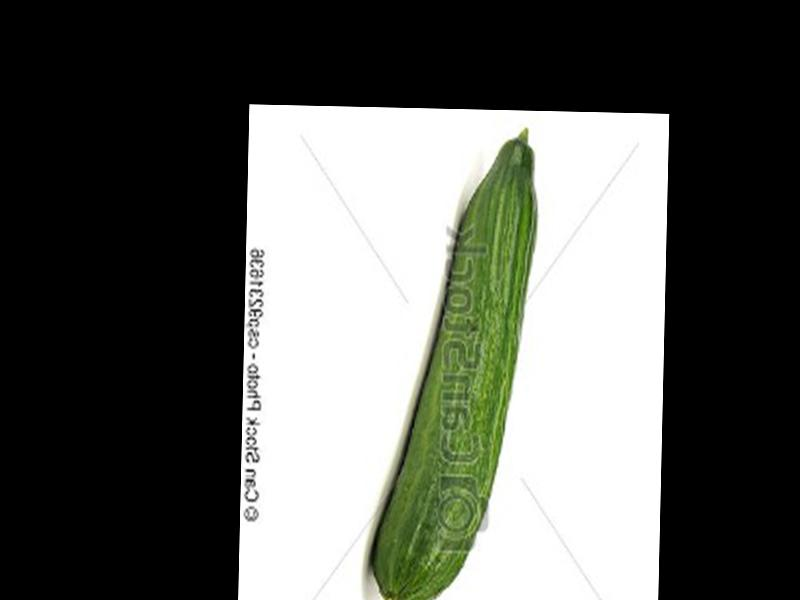Cucumber: (370, 126, 537, 600)
